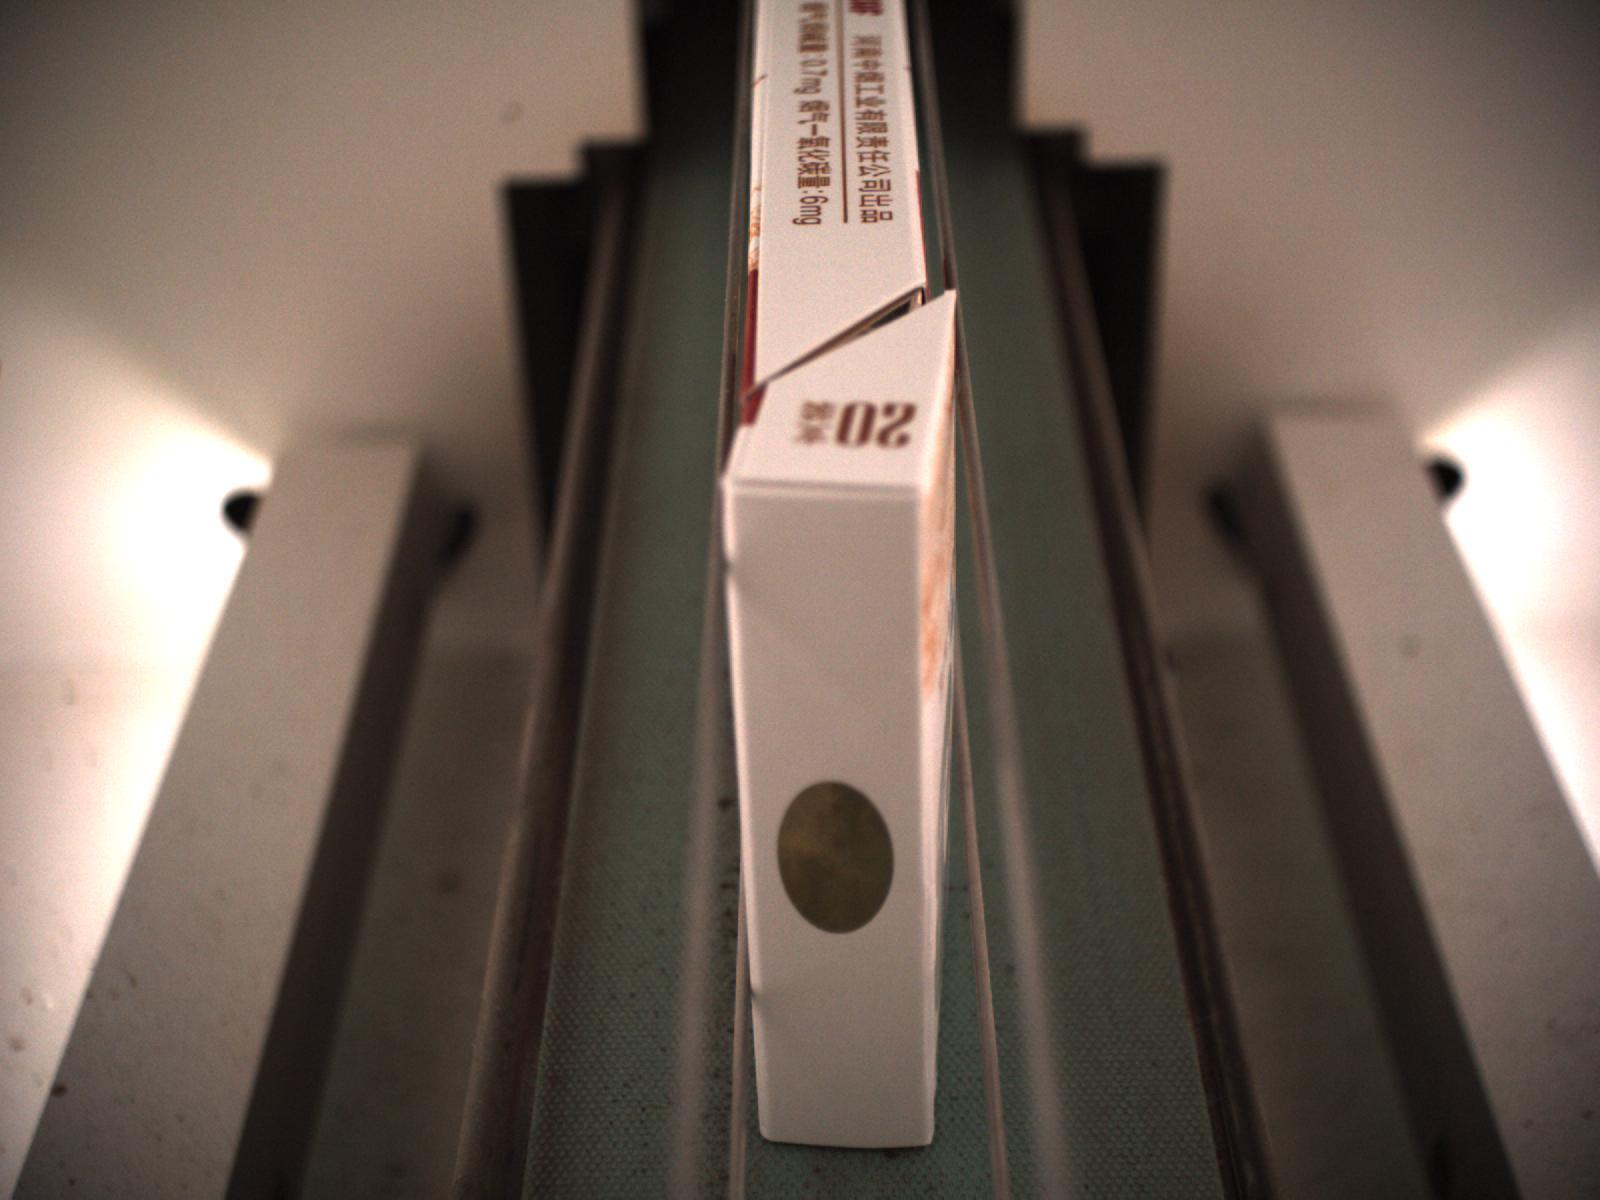headOpen_upper: (737, 277, 958, 409)
